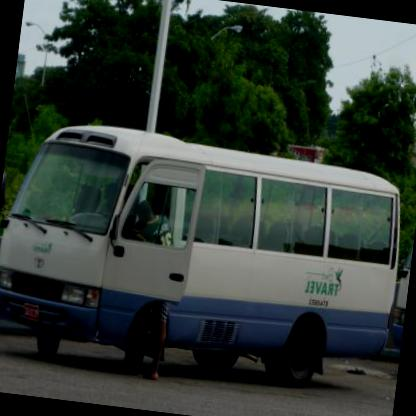bus: (0, 113, 410, 409), (381, 196, 415, 361)
